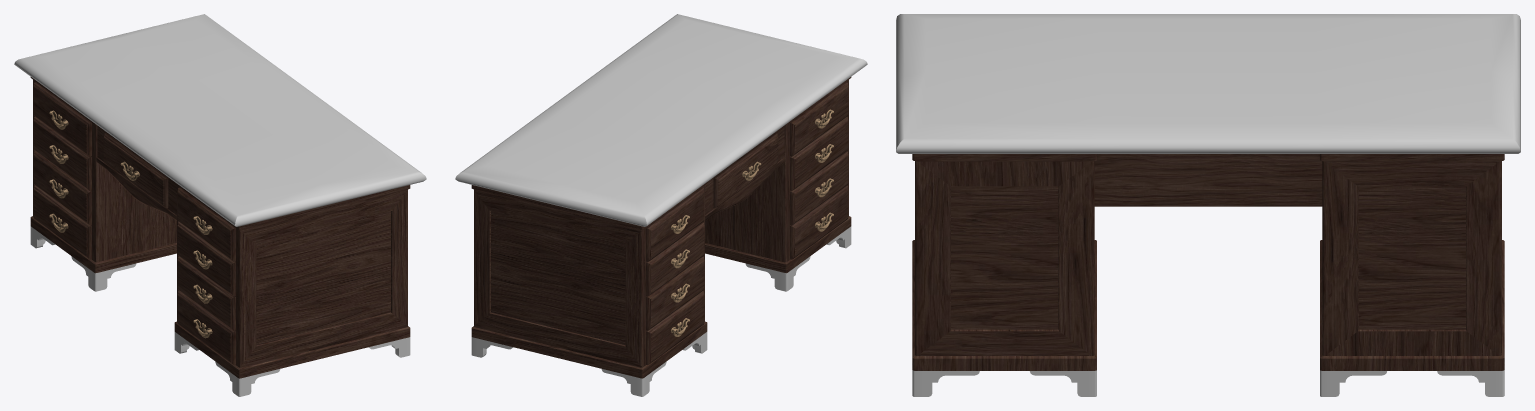
The picture shows the model from 3 angles, left to right: view 1: azimuth 30°, elevation 25°; view 2: azimuth 150°, elevation 25°; view 3: azimuth 270°, elevation 25°; orthographic projection. The views are drawn at different scales.
Visible parts, largest first — view 1: Table_top, Right_drawer_body1, Left_drawer_body2, Drawer13, drawer, Drawer1, Drawer9, Drawer12, Drawer14, Drawer10, Drawer15, Drawer11 (+4 smaller); view 2: Table_top, Left_drawer_body2, Right_drawer_body1, Drawer1, Drawer13, drawer, Drawer12, Drawer11, Drawer14, Drawer15, Drawer9, Drawer10 (+4 smaller); view 3: Table_top, Right_drawer_body1, Left_drawer_body2, section, leg3, leg2, leg1, leg4.
Part boxes in pixels (x1,y1,x2,y2): Table_top: (14,14,426,226); Right_drawer_body1: (174,182,410,378); Left_drawer_body2: (30,77,176,273); Drawer13: (33,82,91,156); drawer: (103,132,168,208); Drawer1: (177,187,235,261); Drawer9: (177,222,235,296); Drawer12: (33,151,91,225); Drawer14: (33,185,91,259); Drawer10: (177,256,235,330); Drawer15: (33,117,91,190); Drawer11: (177,291,235,364); Table_top: (455,14,867,226); Left_drawer_body2: (471,182,707,378); Right_drawer_body1: (705,77,851,273); Drawer1: (790,82,848,156); Drawer13: (646,187,704,261); drawer: (713,132,778,208); Drawer12: (646,256,704,330); Drawer11: (790,185,848,259); Drawer14: (646,291,704,364); Drawer15: (646,222,704,296); Drawer9: (790,117,848,190); Drawer10: (790,151,848,225); Table_top: (896,14,1520,153); Right_drawer_body1: (912,154,1096,370); Left_drawer_body2: (1320,154,1504,370); section: (1094,154,1322,206); leg3: (912,370,979,396); leg2: (1437,370,1504,396); leg1: (1320,370,1386,396); leg4: (1030,370,1096,396).
Bounding box in the file's own units: 1 × 0.9417 × 2.
